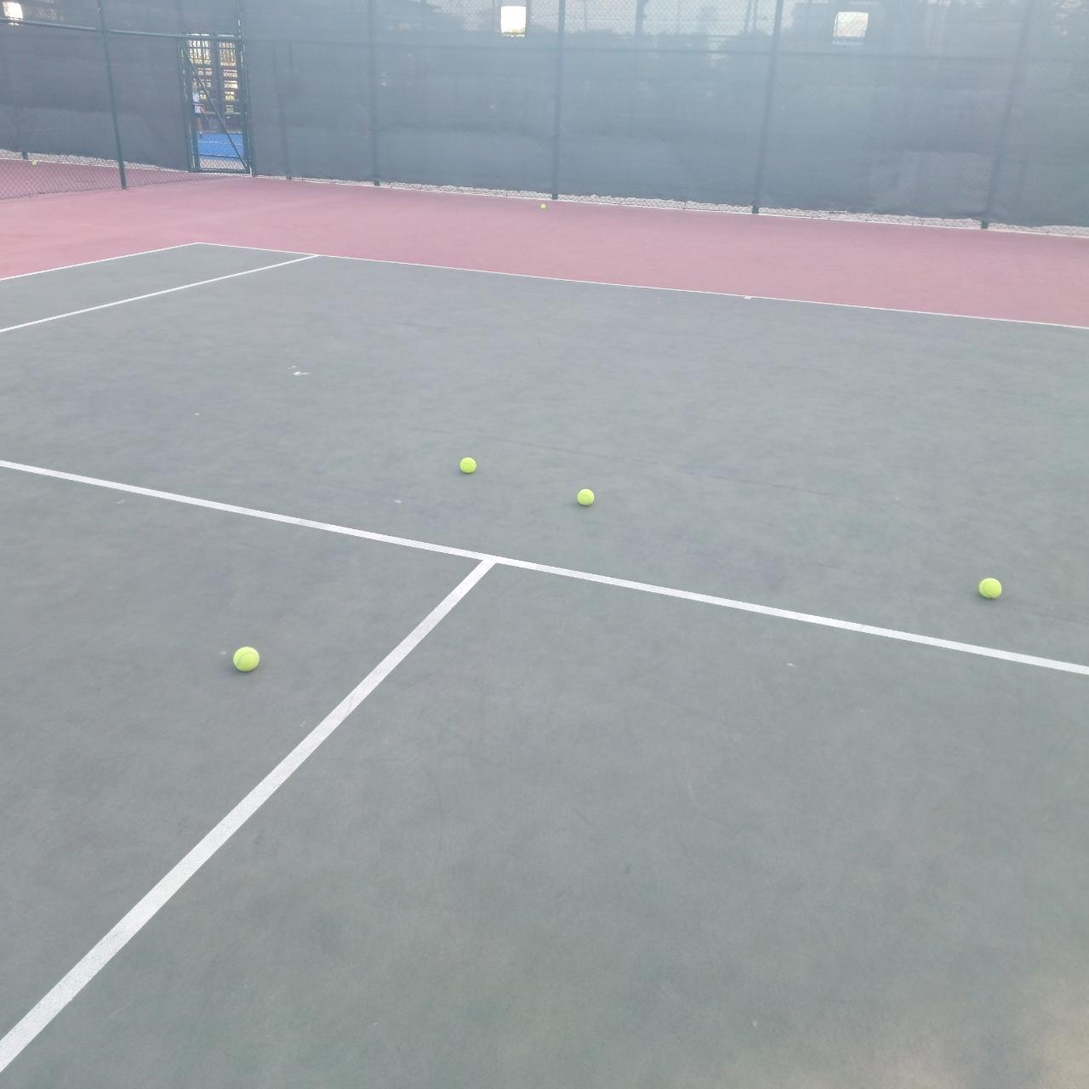tennis-ball: (232, 645, 260, 672), (978, 577, 1003, 599), (459, 456, 477, 474), (577, 488, 595, 506), (541, 204, 546, 209), (32, 161, 37, 166)
